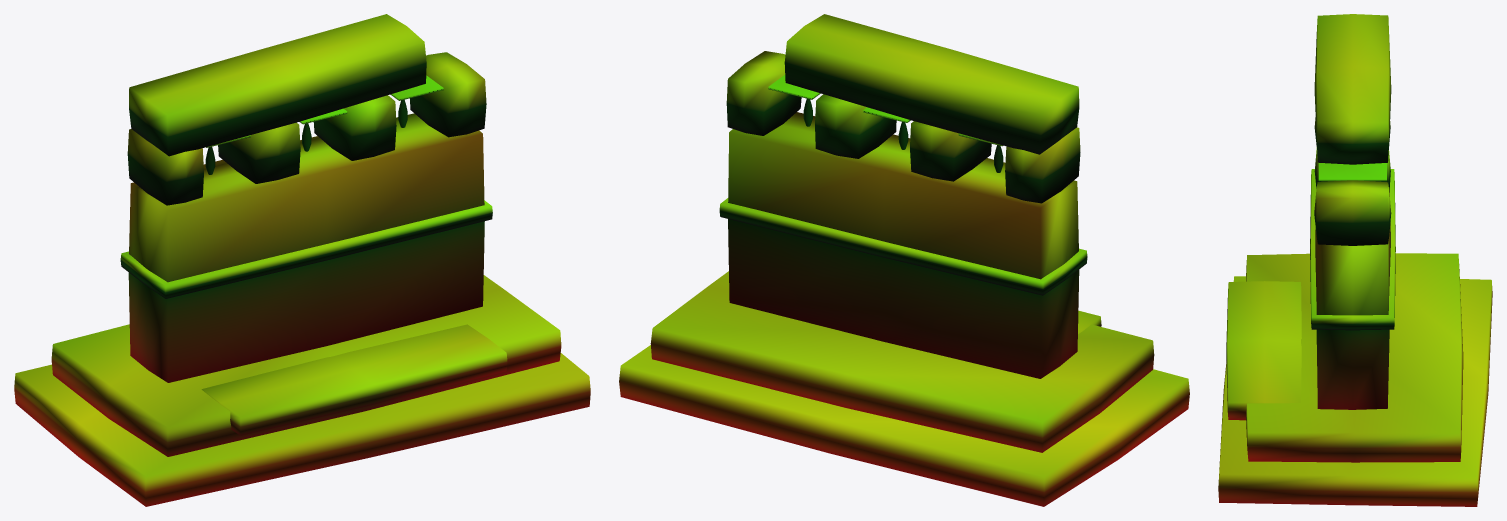
Rendered from grave_stele_b.glb.
3 renders of one model, left to right at view 1: azimuth 30°, elevation 25°; view 2: azimuth 150°, elevation 25°; view 3: azimuth 270°, elevation 25°, orthographic. The views are drawn at different scales.
Visible parts, largest first — view 1: grave_stele_b; view 2: grave_stele_b; view 3: grave_stele_b.
Part boxes in pixels (box(x1,y1,x2,y2)): grave_stele_b: box(14, 14, 590, 506); grave_stele_b: box(619, 14, 1189, 506); grave_stele_b: box(1218, 14, 1492, 506).
Size of what is drawn, in the model's own units: 1.25 by 0.9566 by 0.7157.
